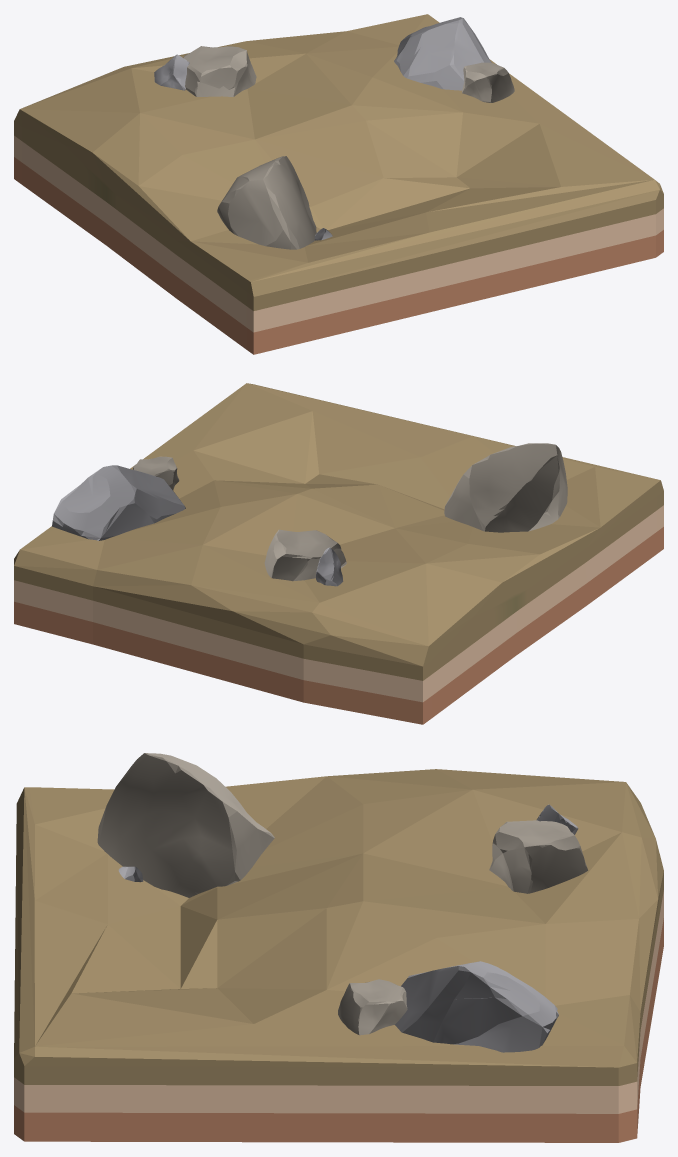
Rendered from 1_Land.fbx.
The picture shows the model from 3 angles, top to bottom: view 1: azimuth 30°, elevation 25°; view 2: azimuth 150°, elevation 25°; view 3: azimuth 270°, elevation 25°; orthographic projection. The views are drawn at different scales.
Visible parts, largest first — view 1: Object011; view 2: Object011; view 3: Object011.
Boxes of the visible parts, bbox=[...] form: Object011: bbox=[14, 14, 663, 354]; Object011: bbox=[14, 383, 663, 724]; Object011: bbox=[14, 753, 663, 1142].
Size of the model in its own units: 0.8992 by 0.2813 by 0.9351.
